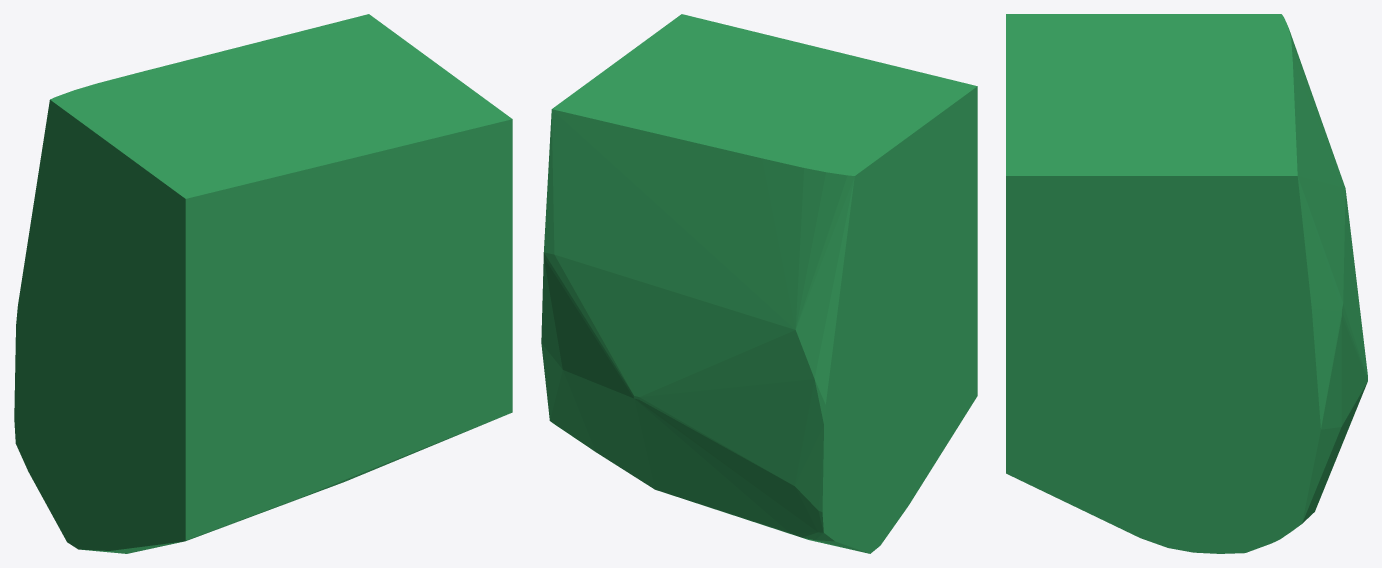
3 views of the same model, side by side, from view 1: azimuth 30°, elevation 25°; view 2: azimuth 150°, elevation 25°; view 3: azimuth 270°, elevation 25° (orthographic). The views are drawn at different scales.
Size of the model in its own units: 0.0243 by 0.0306 by 0.023.
